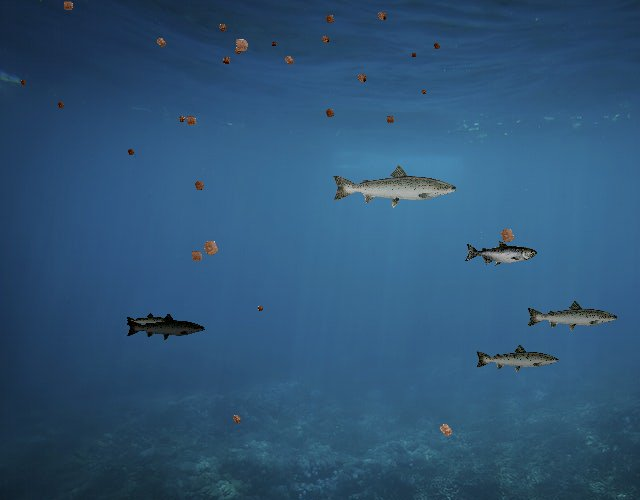Fish: (330, 163, 459, 209), (526, 300, 620, 333), (474, 343, 560, 374), (125, 313, 206, 342), (464, 241, 537, 267), (125, 313, 172, 330)
Pellet: (196, 232, 226, 262), (432, 417, 459, 444), (185, 245, 208, 268), (372, 7, 391, 26), (228, 410, 245, 428), (174, 112, 189, 127), (124, 145, 138, 159), (254, 303, 266, 315)
